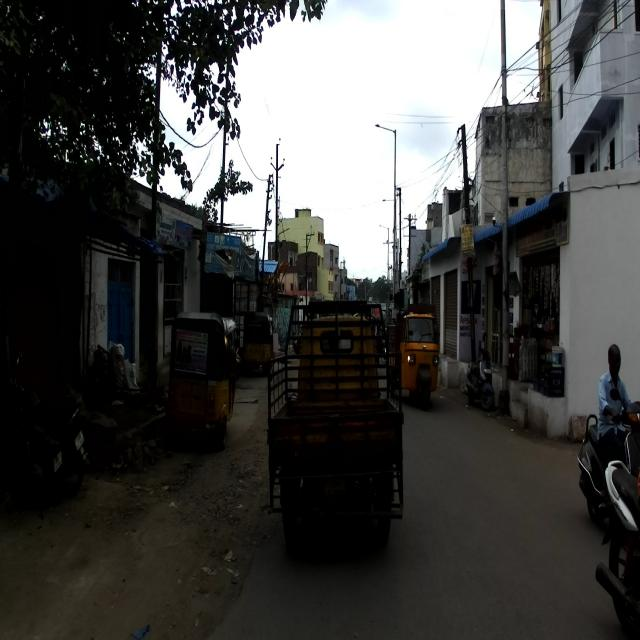autorickshaw: (260, 297, 404, 544), (164, 310, 240, 447), (386, 302, 441, 410)
motorcycle: (595, 457, 639, 639)
scooter: (576, 386, 640, 524)
